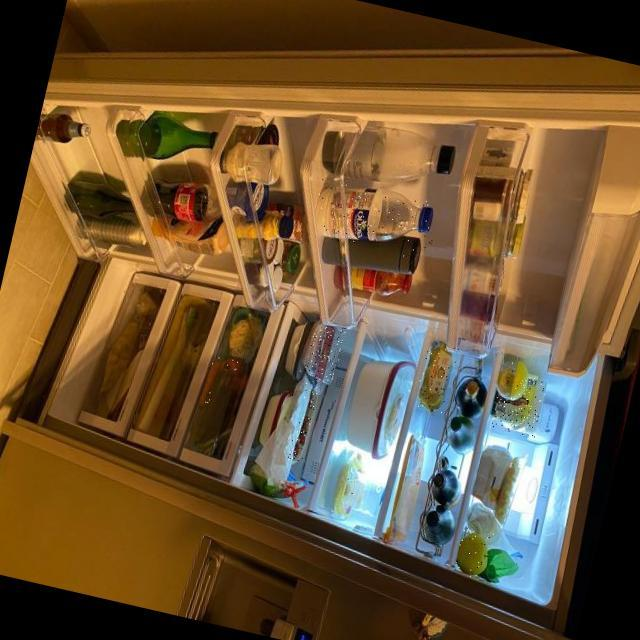Carne cerdo: (301, 321, 345, 384)
Huevos: (412, 341, 458, 416)
Limón: (493, 359, 518, 400)
Manzana: (451, 525, 494, 581)
Queso: (338, 474, 366, 510)
Tomate: (286, 380, 319, 463), (221, 356, 244, 378)
Yogur: (488, 372, 546, 437)
Zanahoria: (198, 354, 220, 409)
milk: (307, 177, 440, 263)
